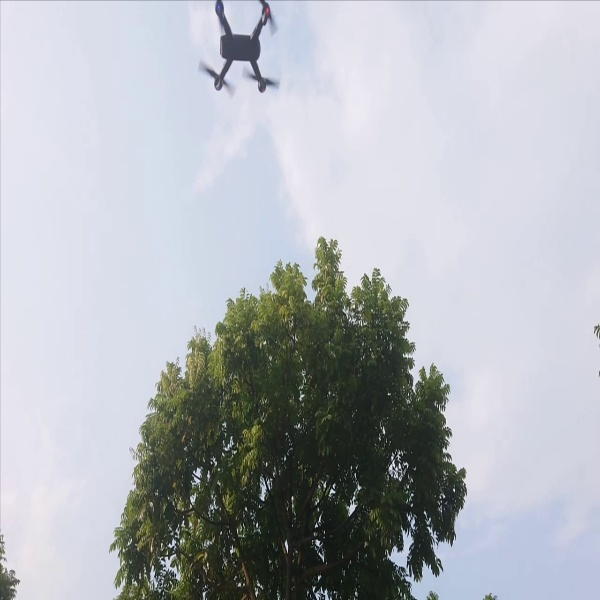drone: (197, 1, 290, 105)
